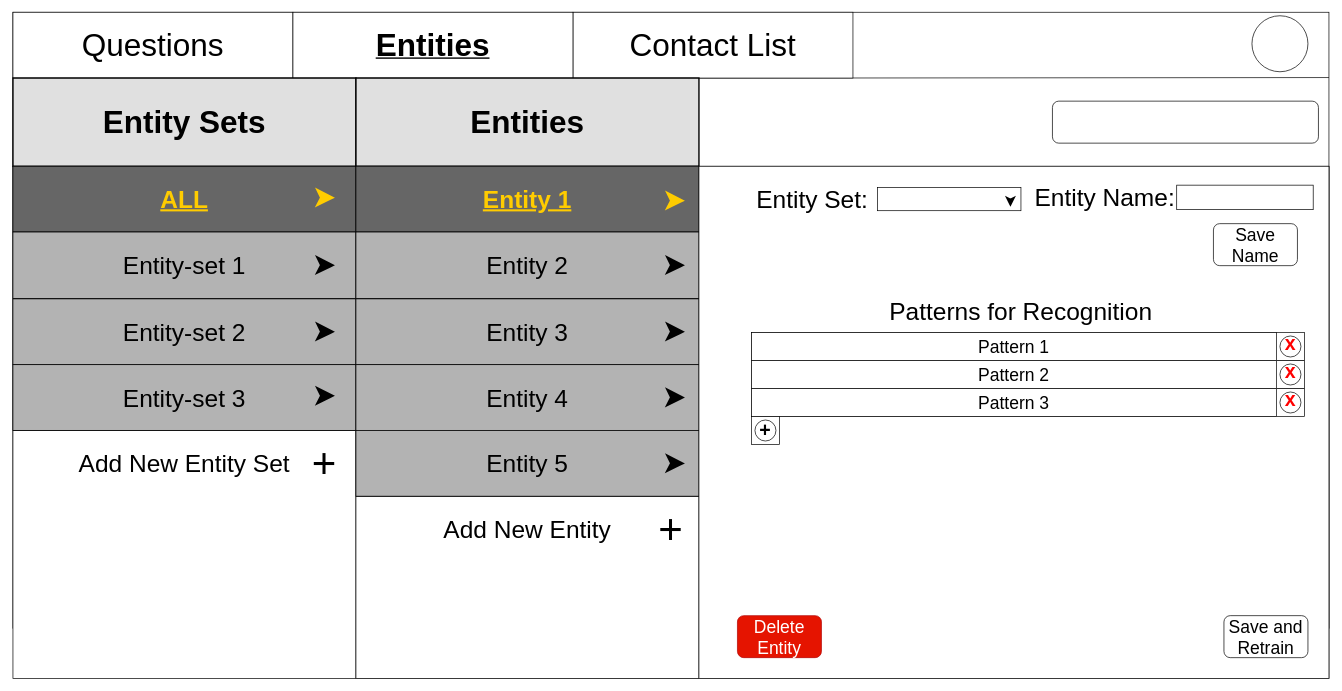
Image size: 1342x691. Some labels were removed from this diagram. Here are the shapes that lost their labels. From the top down, the centre of each, then its label:
point (1279, 43): TEMP
point (1185, 121): Search
point (949, 199): Entity-set
point (1244, 197): Entity Name
